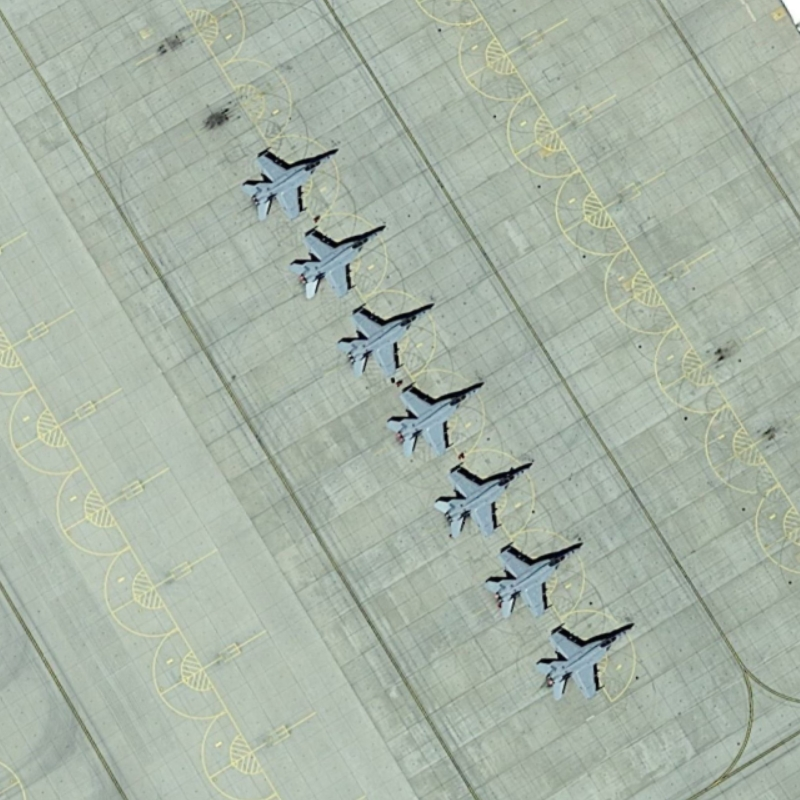A16: (479, 535, 588, 622), (532, 619, 638, 705), (284, 219, 392, 302), (429, 458, 538, 540), (383, 379, 491, 458), (333, 301, 439, 381), (238, 144, 341, 223)
